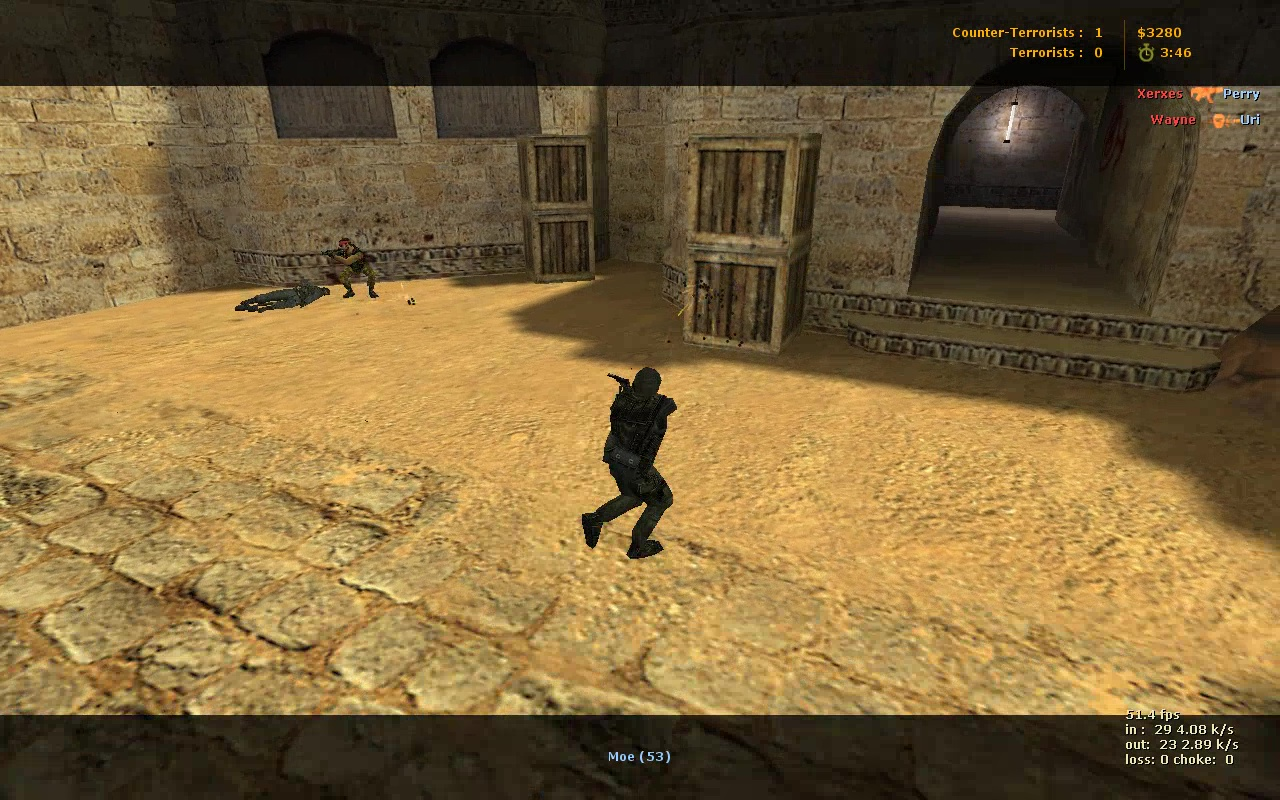ct: (576, 364, 677, 560)
dead: (243, 284, 329, 315)
terr1: (329, 234, 386, 301)
